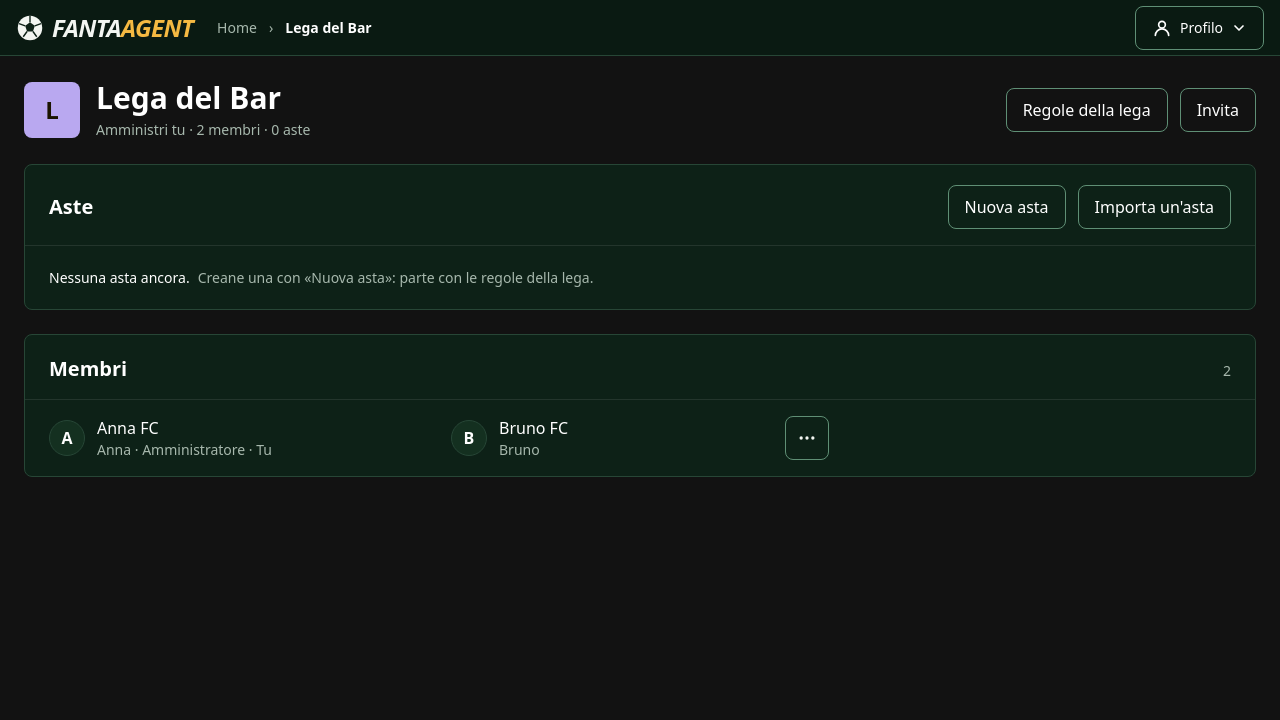
LeagueRoute › l'amministratore crea un link e lo vede una volta
Expected: the button "Crea un link d'invito" is not shown
Click the button "Invita" at (1218, 110), box 1180,88 -> 1256,132
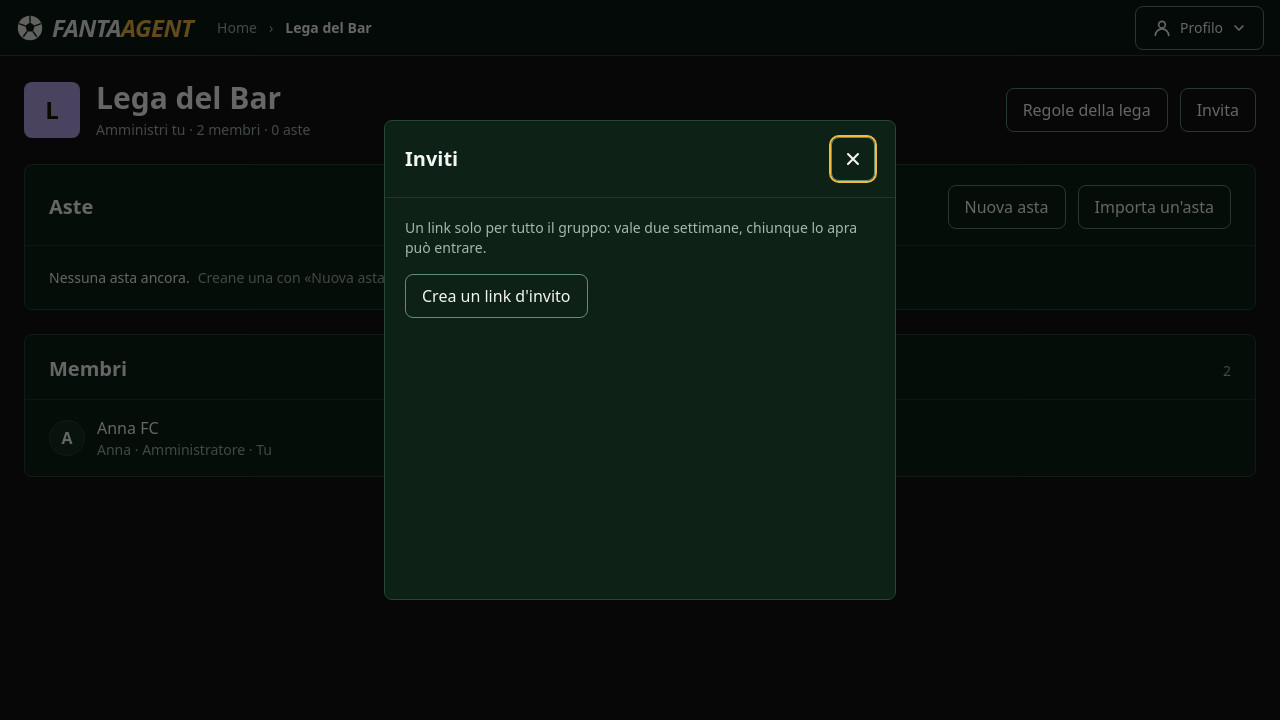
Click the button "Crea un link d'invito" at (496, 296), box 405,274 -> 588,318
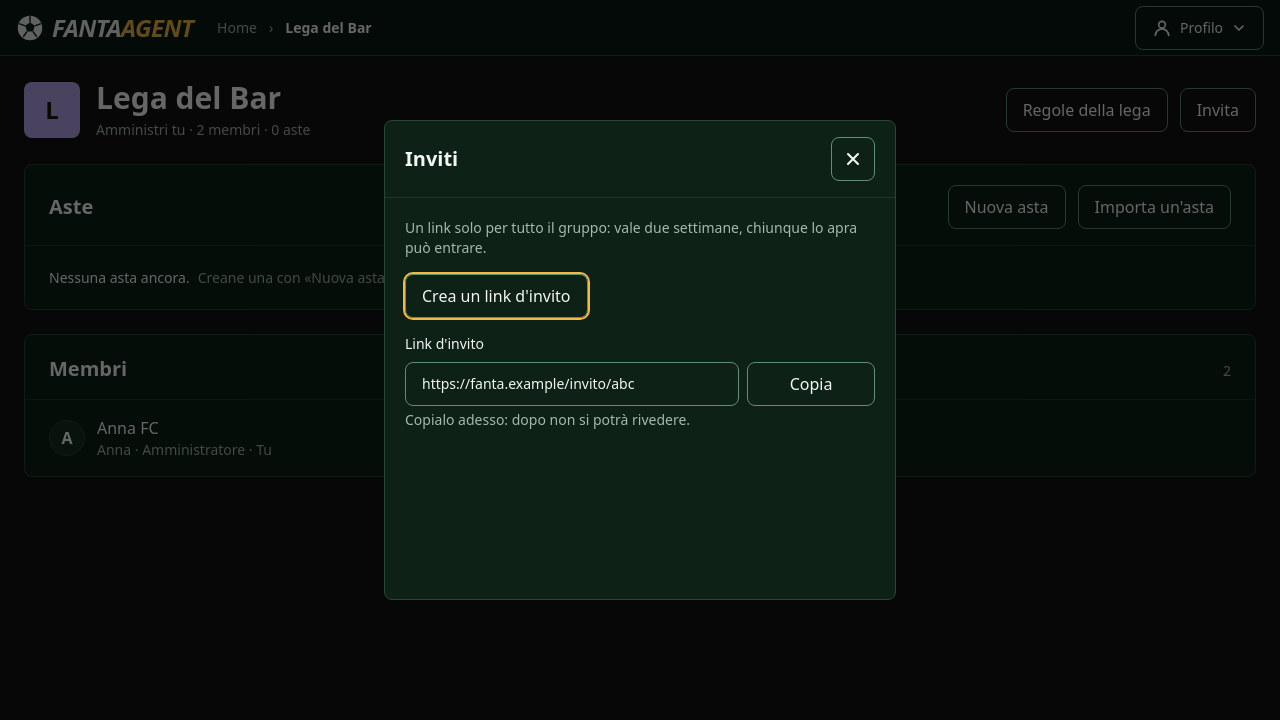
Expected: the field labelled "Link d'invito" holds "https://fanta.example/invito/abc", 405,362 -> 739,406
Click the button named "Chiudi" at (853, 159), box 831,137 -> 875,181
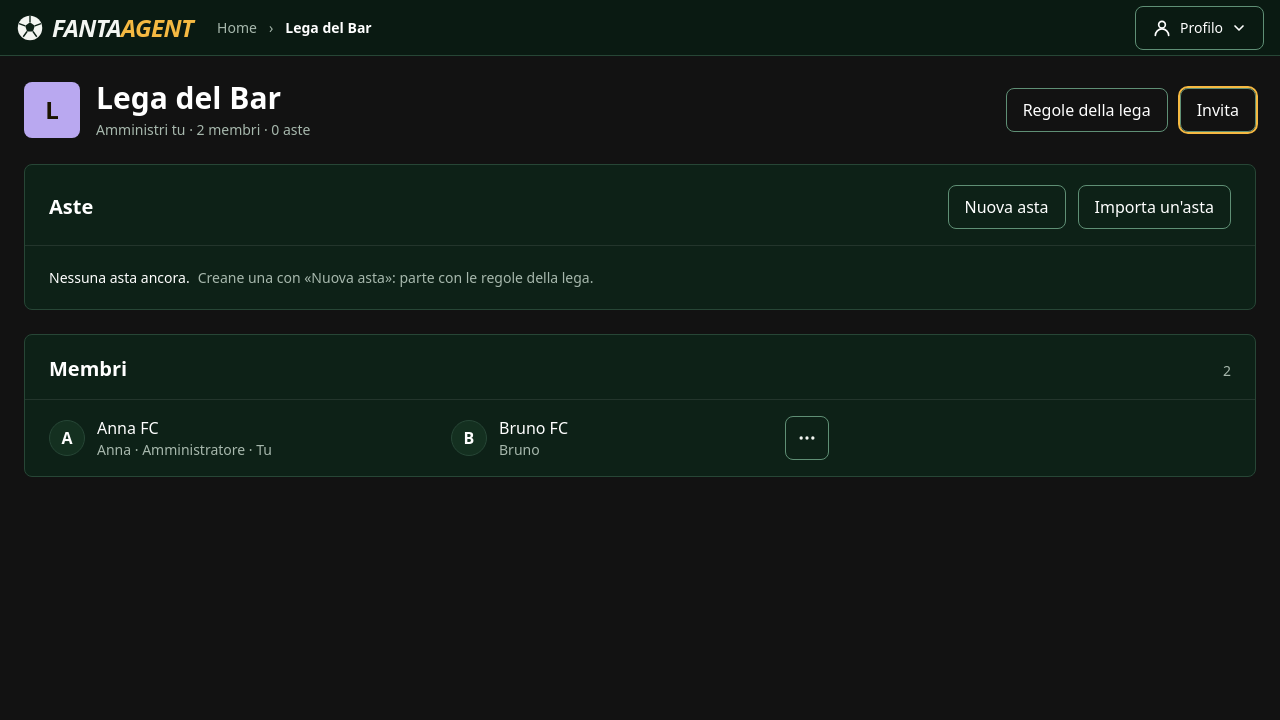
Expected: the heading "Inviti" is gone
